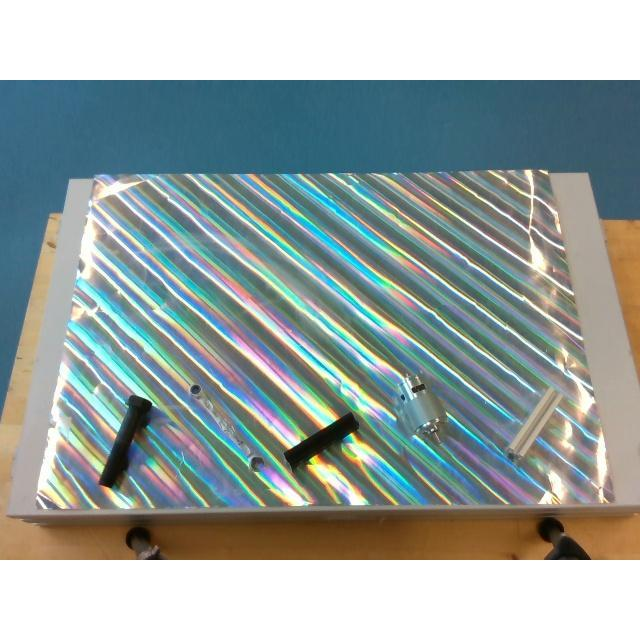F20_20_B: (284, 412, 360, 472)
F20_20_G: (506, 387, 562, 458)
M20_100: (98, 394, 150, 486)
Motor2: (396, 376, 444, 444)
Wrench: (189, 384, 265, 472)
